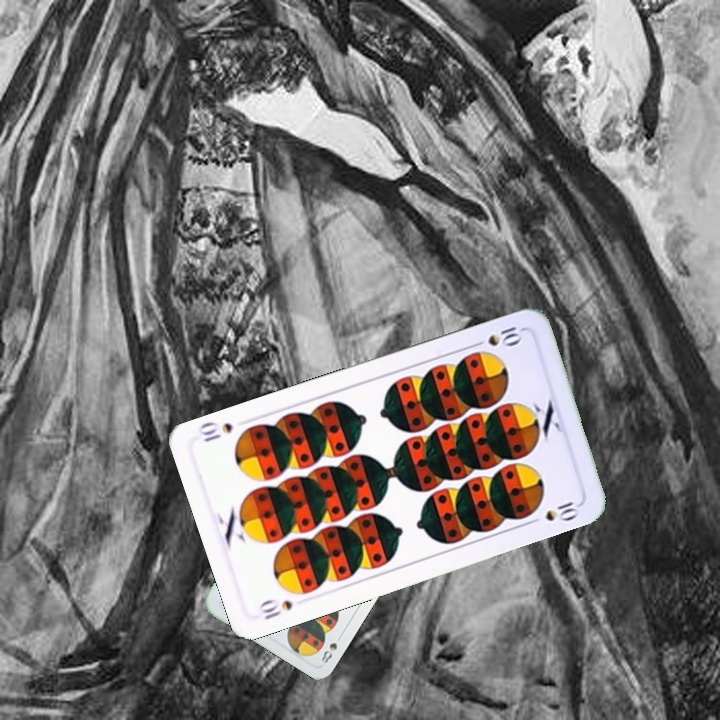S10: (467, 322, 526, 350), (255, 595, 296, 622)
S8: (317, 630, 345, 666)
